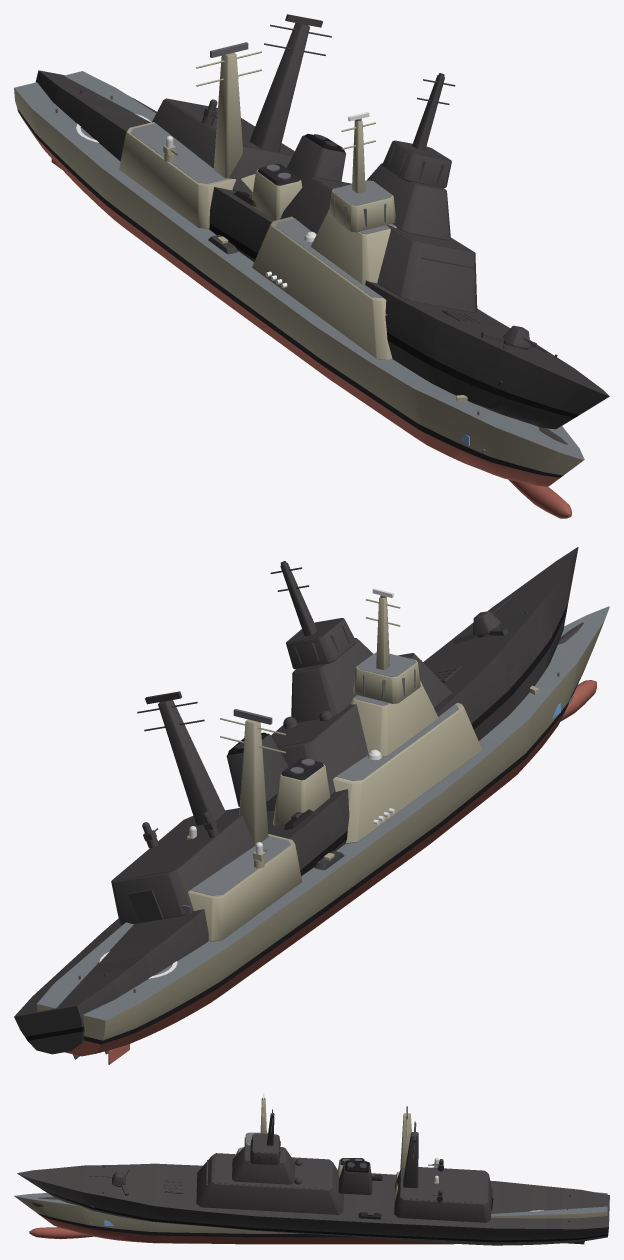
Rendered from asFrigate__admiral_gorshkov_class.glb.
3 views of the same model, one above another, from view 1: azimuth 30°, elevation 25°; view 2: azimuth 150°, elevation 25°; view 3: azimuth 270°, elevation 25° (orthographic). The views are drawn at different scales.
Visible parts, largest first — view 1: Hull_Mesh, Wreck; view 2: Hull_Mesh, Wreck; view 3: Wreck, Hull_Mesh.
Part boxes in pixels (x1=…): Hull_Mesh: x1=14, y1=42, x2=584, y2=518; Wreck: x1=35, y1=14, x2=609, y2=444; Hull_Mesh: x1=37, y1=596, x2=609, y2=1064; Wreck: x1=14, y1=547, x2=583, y2=1059; Wreck: x1=17, y1=1109, x2=609, y2=1245; Hull_Mesh: x1=14, y1=1099, x2=607, y2=1244.
Size of what is drawn, in the model's own units: 24.49 by 39.49 by 141.
